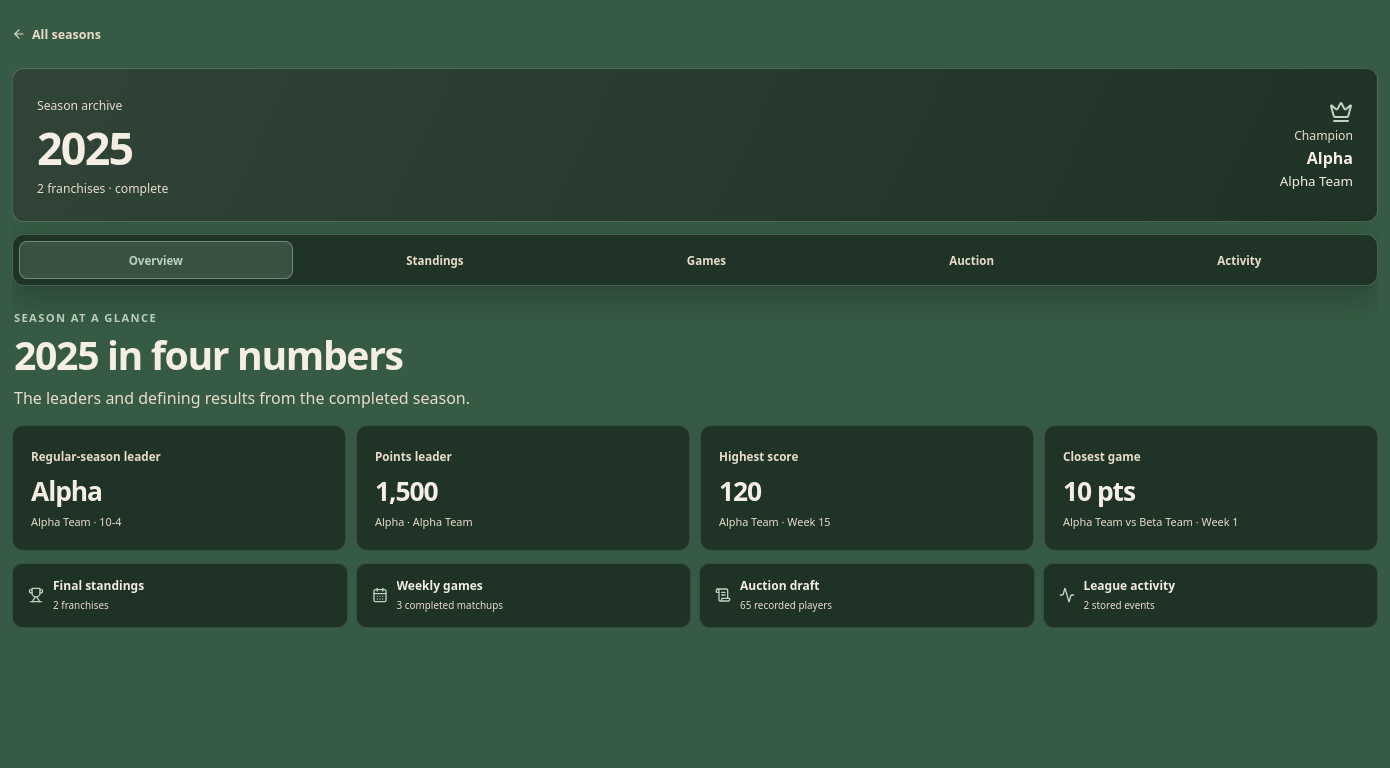
Test: SeasonArchivePage › groups regular-season games by week and separates the playoffs
Click the button "games". click: (706, 260)
box: x1=577 y1=241 x2=836 y2=279
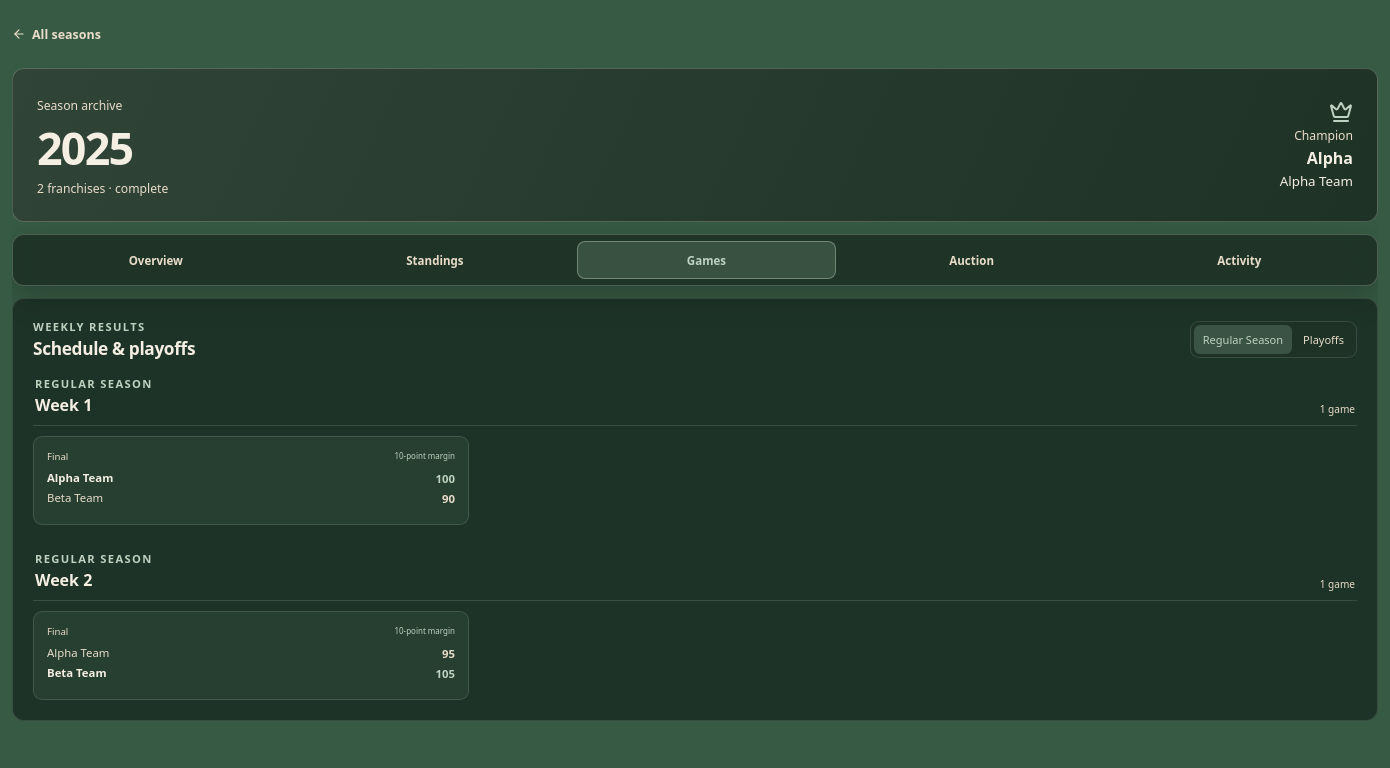
Expected: the heading "Week 2" is shown, x1=35 y1=569 x2=92 y2=591
Expected: the element named "Alpha Team 100, Beta Team 90" is shown, x1=33 y1=436 x2=469 y2=525
Expected: the text "Week 15" is gone
Click the button "Playoffs". click: (1324, 340)
box: x1=1294 y1=325 x2=1353 y2=354
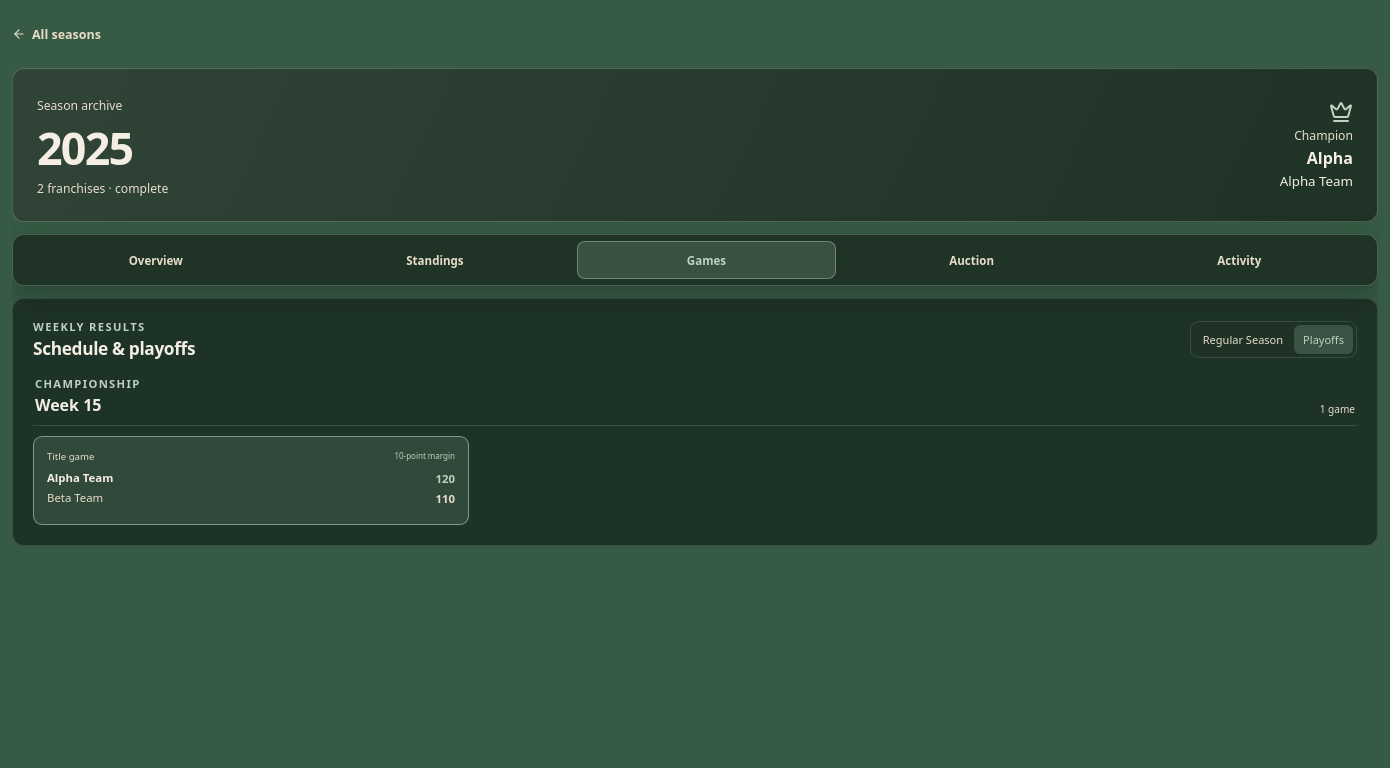
Expected: the heading "Week 15" is shown, x1=35 y1=394 x2=102 y2=416
Expected: the text "Championship" is shown, x1=35 y1=376 x2=141 y2=391
